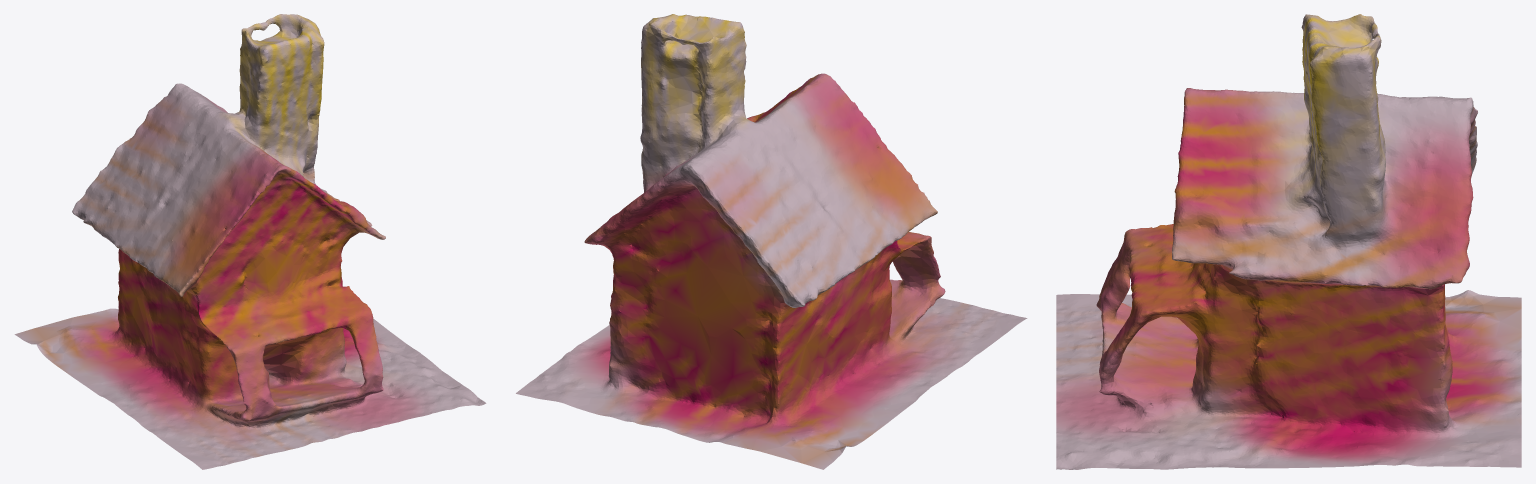
Rendered from color_191529_fmt2_3.glb.
3 renders of one model, left to right at view 1: azimuth 30°, elevation 25°; view 2: azimuth 150°, elevation 25°; view 3: azimuth 270°, elevation 25°, orthographic. The views are drawn at different scales.
Visible parts, largest first — view 1: house2; view 2: house2; view 3: house2.
Boxes of the visible parts, bbox=[...] form: house2: bbox=[14, 14, 486, 469]; house2: bbox=[516, 14, 1027, 469]; house2: bbox=[1056, 14, 1521, 469].
Size of the model in its own units: 5.85 by 6.18 by 6.71.
